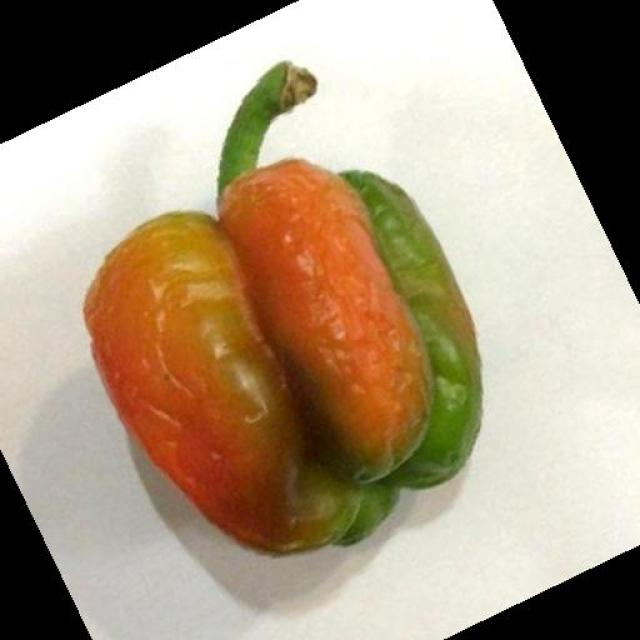Stale_Capsicum: (70, 81, 500, 544)
